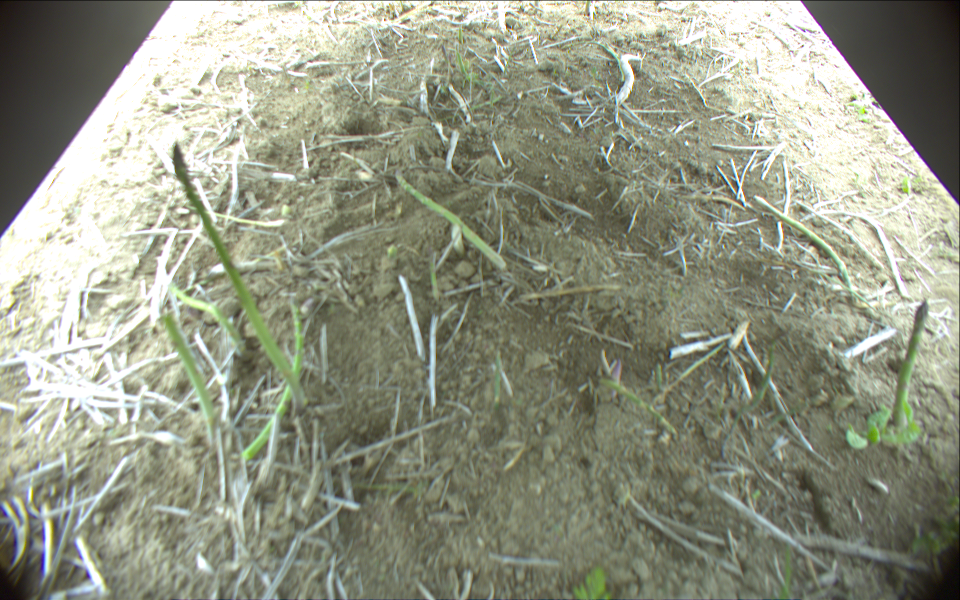aspa: (171, 143, 308, 411), (394, 169, 509, 271), (242, 295, 307, 461), (754, 195, 854, 295), (162, 306, 218, 443), (165, 280, 245, 351), (892, 300, 928, 428), (441, 45, 452, 79), (457, 47, 467, 82), (452, 24, 466, 46)
